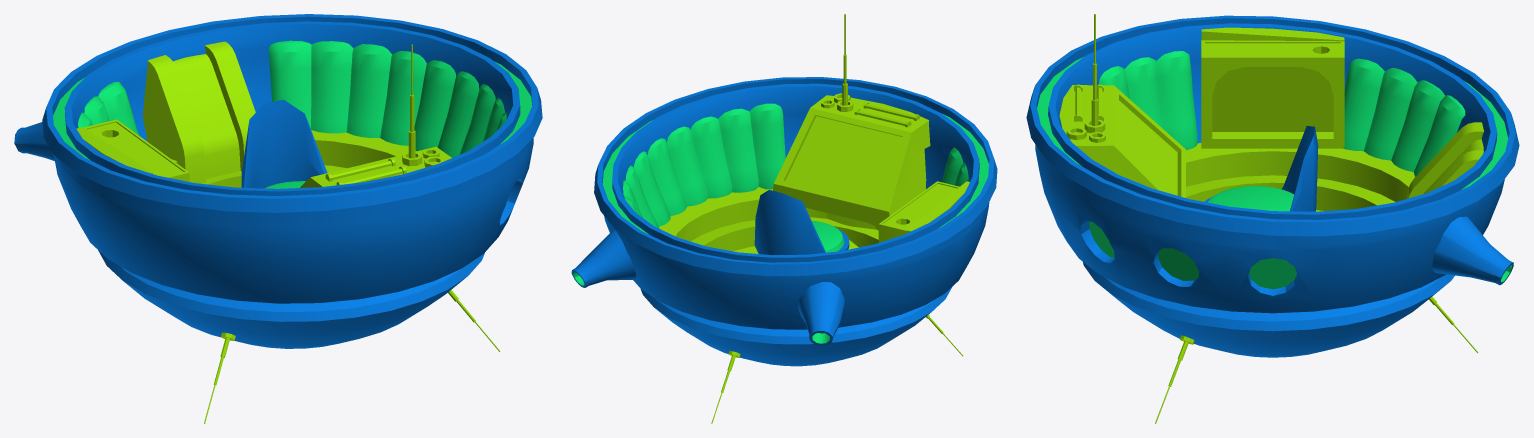
File: GeoVehBodyInner01.fbx
The picture shows the model from 3 angles, left to right: view 1: azimuth 30°, elevation 25°; view 2: azimuth 150°, elevation 25°; view 3: azimuth 270°, elevation 25°; orthographic projection. The views are drawn at different scales.
Parts seen in each view (by area): view 1: GeoVehBodyInner01_LOD0; view 2: GeoVehBodyInner01_LOD0; view 3: GeoVehBodyInner01_LOD0.
Part boxes in pixels (x1=…): GeoVehBodyInner01_LOD0: x1=14, y1=14, x2=542, y2=423; GeoVehBodyInner01_LOD0: x1=571, y1=14, x2=997, y2=423; GeoVehBodyInner01_LOD0: x1=1026, y1=14, x2=1519, y2=423.
Size of what is drawn, in the model's own units: 276 by 218 by 276.
